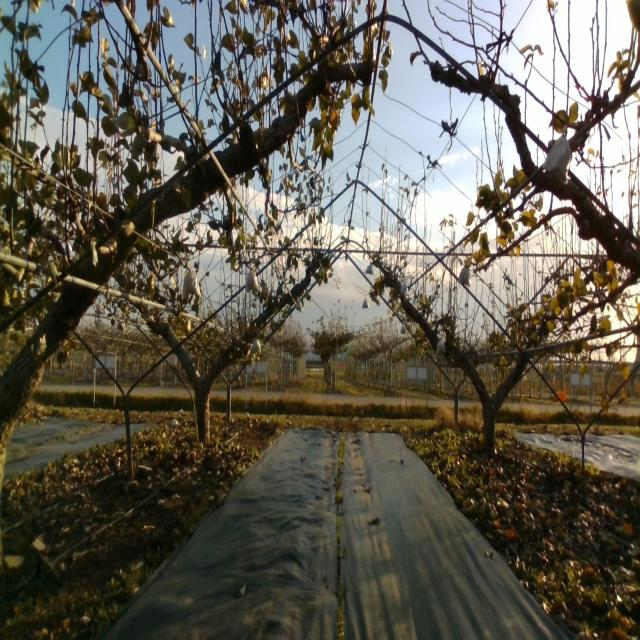pearbags: (542, 124, 572, 186), (182, 270, 200, 302), (246, 268, 260, 294), (458, 268, 470, 285)
